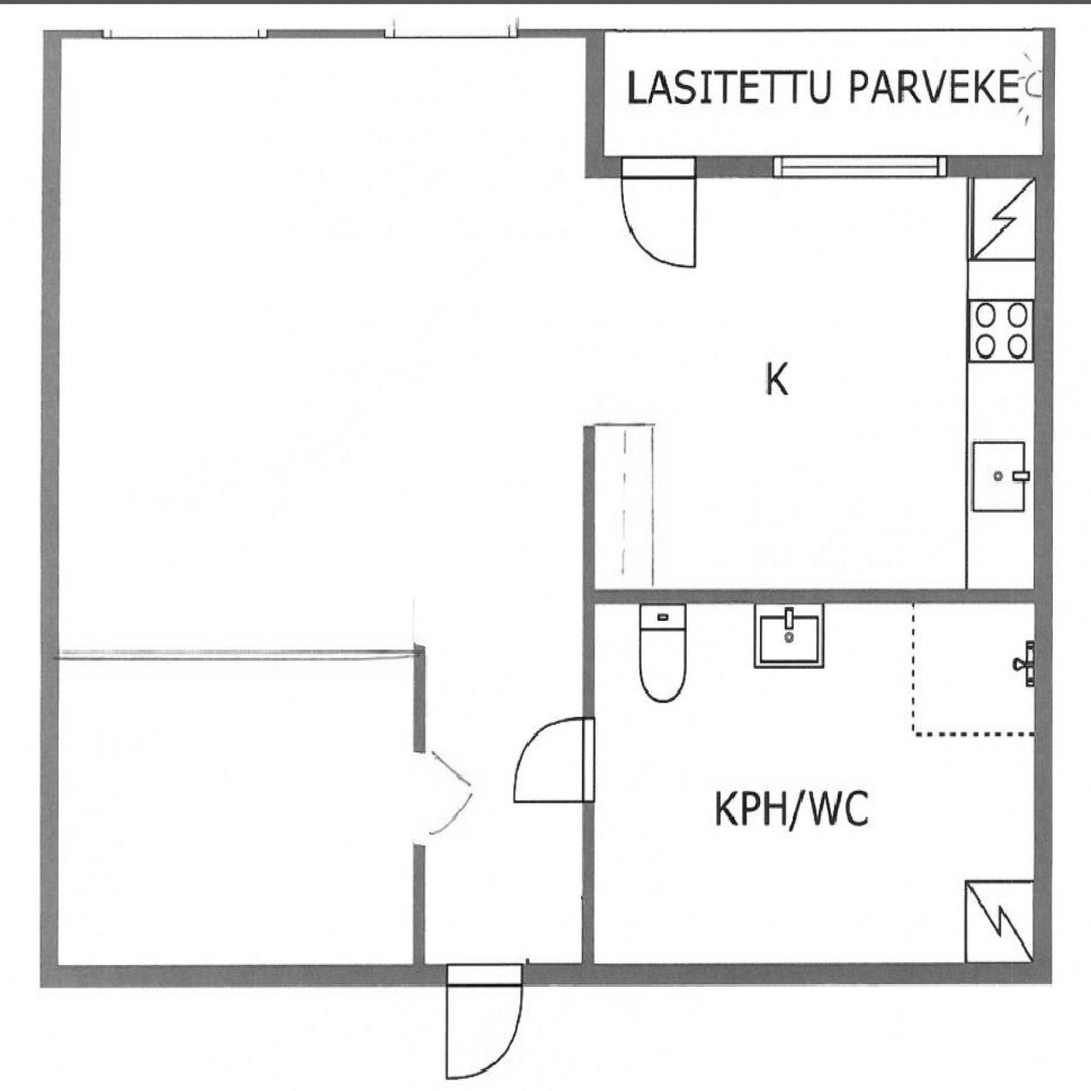wall: (42, 961, 1049, 981), (42, 19, 57, 983), (1034, 155, 1050, 983), (584, 155, 1049, 177), (42, 19, 603, 37), (585, 19, 1050, 37), (582, 589, 1050, 603), (582, 425, 593, 983), (42, 646, 423, 659), (412, 646, 423, 983), (585, 19, 603, 177)
